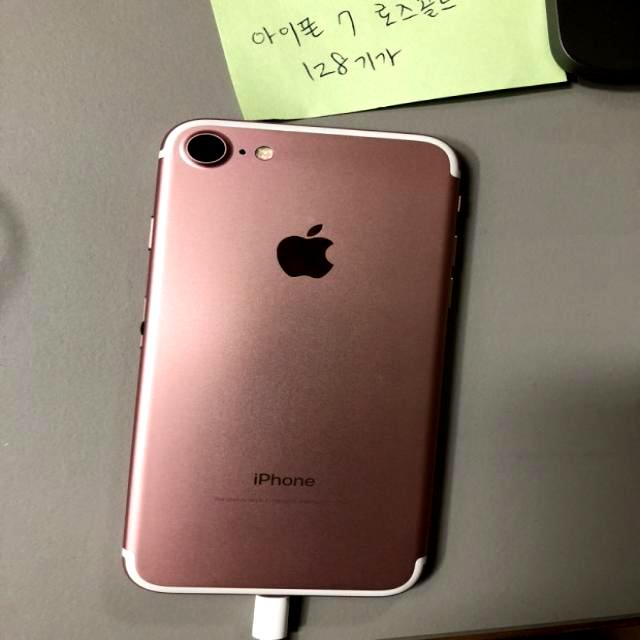lens_back: (179, 127, 234, 169)
phone: (124, 105, 474, 598)
